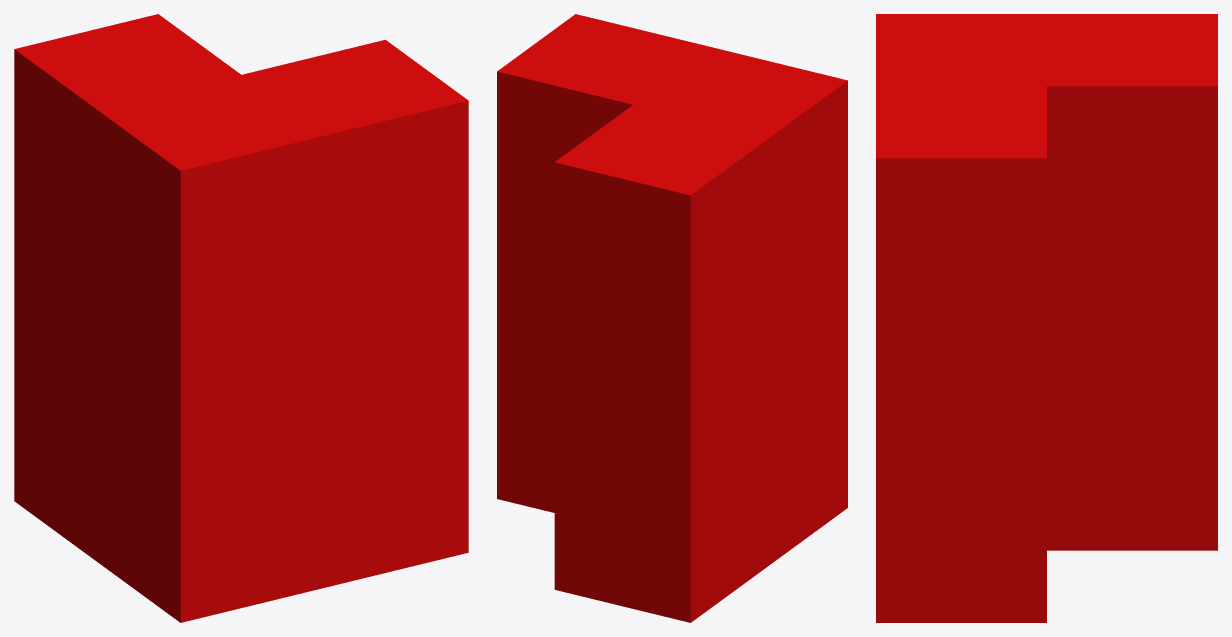
File: wall_edge_5.fbx
3 views of the same model, side by side, from view 1: azimuth 30°, elevation 25°; view 2: azimuth 150°, elevation 25°; view 3: azimuth 270°, elevation 25° (orthographic). The views are drawn at different scales.
Parts seen in each view (by area): view 1: wall_edge_5; view 2: wall_edge_5; view 3: wall_edge_5.
Boxes of the visible parts, box(x1,y1,x2,y2) form: wall_edge_5: box(14, 14, 468, 622); wall_edge_5: box(497, 14, 847, 622); wall_edge_5: box(876, 14, 1217, 622).
Bounding box in the file's own units: 2 × 3 × 2.
